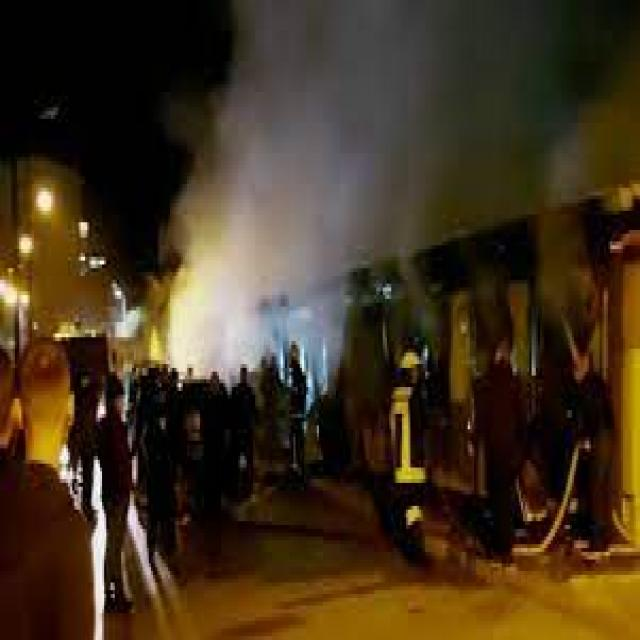smoke: (170, 4, 608, 372)
